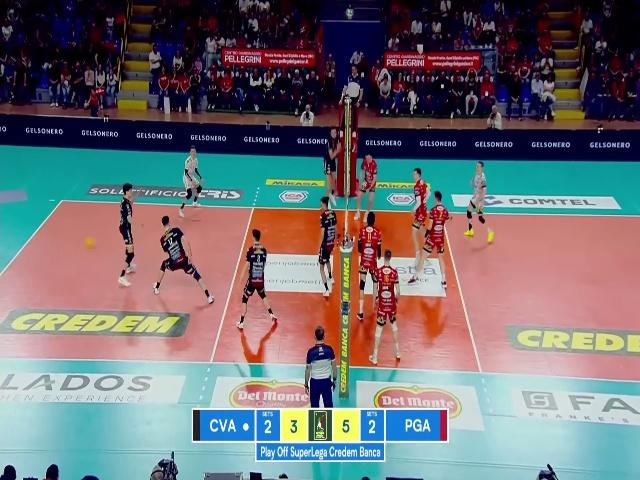volleyball court: (0, 198, 638, 380)
